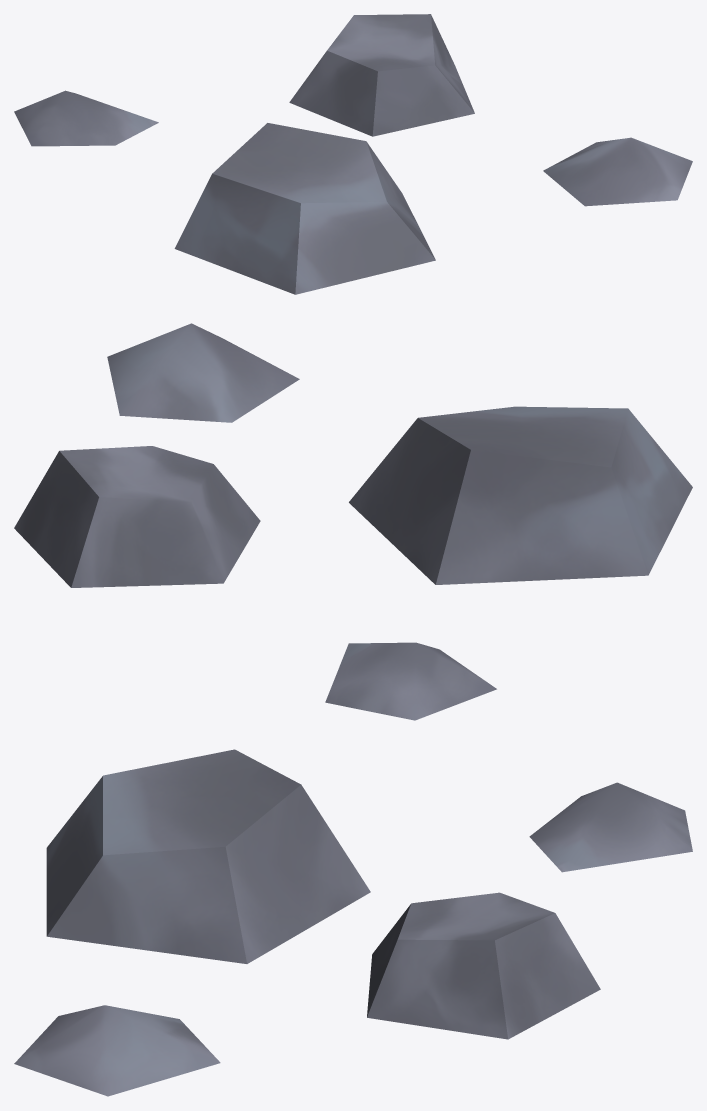
Rendered from pebbles.glb.
3 views of the same model, one above another, from view 1: azimuth 30°, elevation 25°; view 2: azimuth 150°, elevation 25°; view 3: azimuth 270°, elevation 25° (orthographic). The views are drawn at different scales.
Parts seen in each view (by area): view 1: rock 2_rock_0; view 2: rock 2_rock_0; view 3: rock 2_rock_0.
Boxes of the visible parts, bbox=[...] form: rock 2_rock_0: bbox=[14, 14, 692, 294]; rock 2_rock_0: bbox=[14, 323, 692, 720]; rock 2_rock_0: bbox=[14, 749, 692, 1096].
Bounding box in the file's own units: 0.2343 × 0.0388 × 0.222.
Materials: 1 (1 with a texture image).
